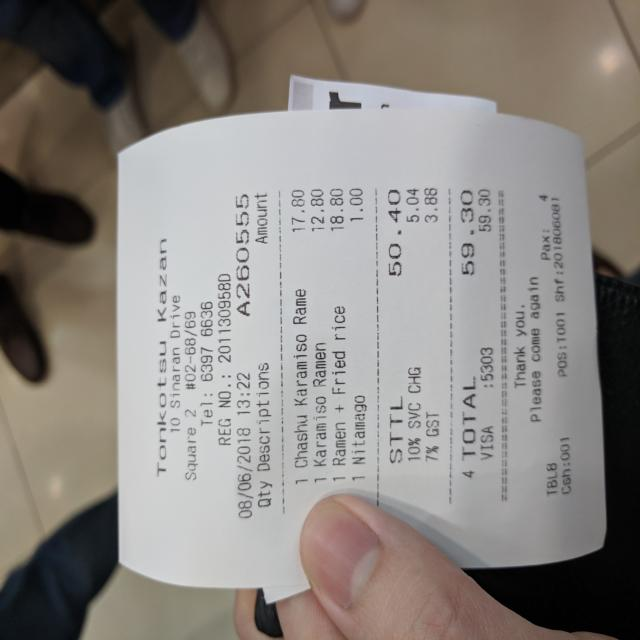bill_region: (279, 174, 479, 495)
